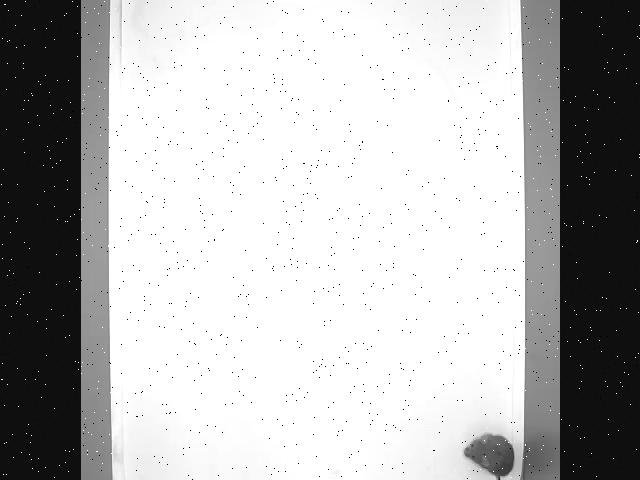Tikus: (461, 432, 525, 480)
